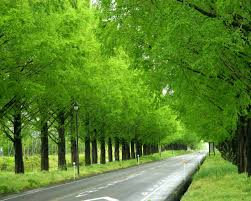forest: (5, 4, 246, 197)
tree: (122, 10, 251, 172)
